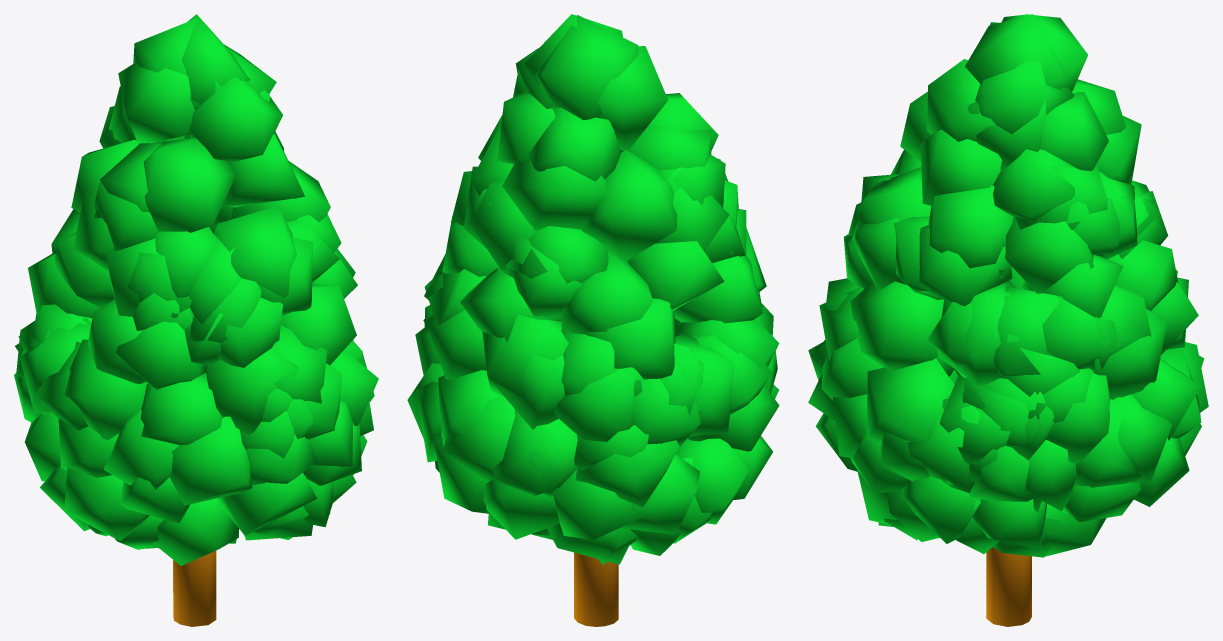
Rendered from bettertree 1.fbx.
3 views of the same model, side by side, from view 1: azimuth 30°, elevation 25°; view 2: azimuth 150°, elevation 25°; view 3: azimuth 270°, elevation 25° (orthographic). The views are drawn at different scales.
Parts seen in each view (by area): view 1: Icosphere; view 2: Icosphere; view 3: Icosphere.
Boxes of the visible parts, <box> form: Icosphere: <box>14,14,378,626</box>; Icosphere: <box>407,14,779,626</box>; Icosphere: <box>808,14,1208,626</box>.
Size of the model in its own units: 47.03 by 85.52 by 50.92.
